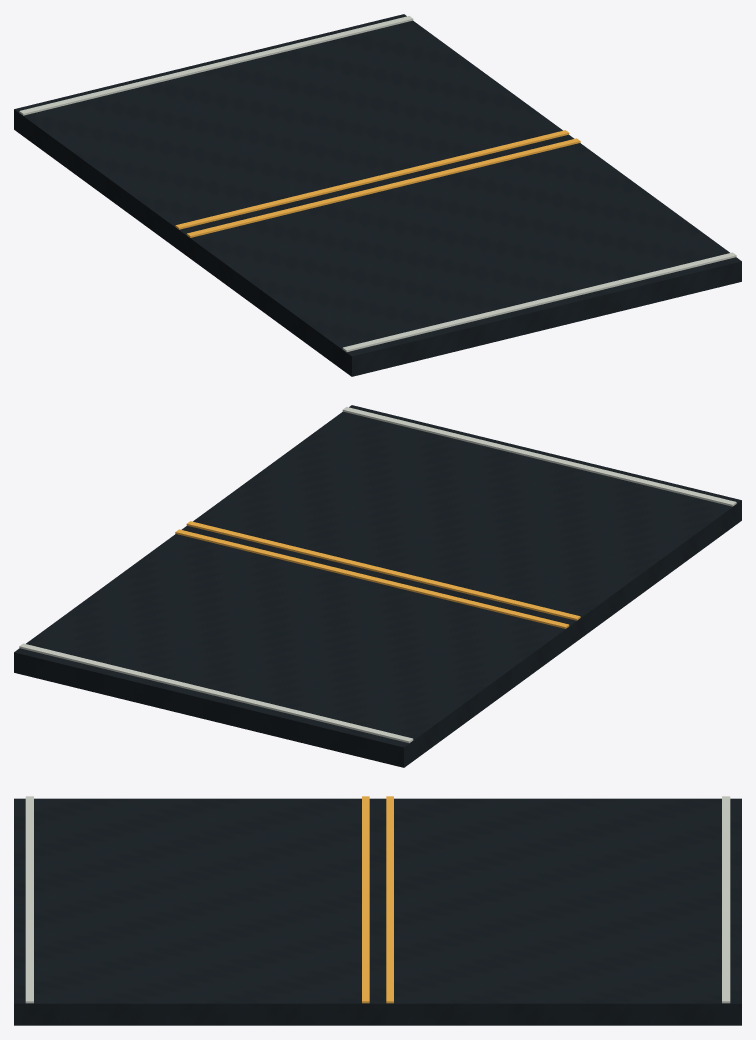
File: Road_2Lane_4m.glb
3 views of the same model, one above another, from view 1: azimuth 30°, elevation 25°; view 2: azimuth 150°, elevation 25°; view 3: azimuth 270°, elevation 25° (orthographic). The views are drawn at different scales.
Visible parts, largest first — view 1: Road_2Lane_4m_Lane_01, Road_2Lane_4m_Lane_02, Road_2Lane_4m_EdgeMarkings, Road_2Lane_4m_LaneMarkings; view 2: Road_2Lane_4m_Lane_02, Road_2Lane_4m_Lane_01, Road_2Lane_4m_EdgeMarkings, Road_2Lane_4m_LaneMarkings; view 3: Road_2Lane_4m_Lane_01, Road_2Lane_4m_Lane_02, Road_2Lane_4m_EdgeMarkings, Road_2Lane_4m_LaneMarkings.
Boxes of the visible parts, <box> form: Road_2Lane_4m_Lane_01: <box>183,138,741,376</box>; Road_2Lane_4m_Lane_02: <box>14,14,572,252</box>; Road_2Lane_4m_EdgeMarkings: <box>19,16,736,352</box>; Road_2Lane_4m_LaneMarkings: <box>175,130,580,237</box>; Road_2Lane_4m_Lane_02: <box>14,529,572,767</box>; Road_2Lane_4m_Lane_01: <box>183,405,741,643</box>; Road_2Lane_4m_EdgeMarkings: <box>19,407,736,743</box>; Road_2Lane_4m_LaneMarkings: <box>175,521,580,628</box>; Road_2Lane_4m_Lane_01: <box>14,798,377,1025</box>; Road_2Lane_4m_Lane_02: <box>378,798,741,1025</box>; Road_2Lane_4m_EdgeMarkings: <box>25,796,730,1003</box>; Road_2Lane_4m_LaneMarkings: <box>362,796,393,1003</box>.
Size of the model in its own units: 4 by 0.221 by 6.
Materials: 3 (1 with a texture image).
